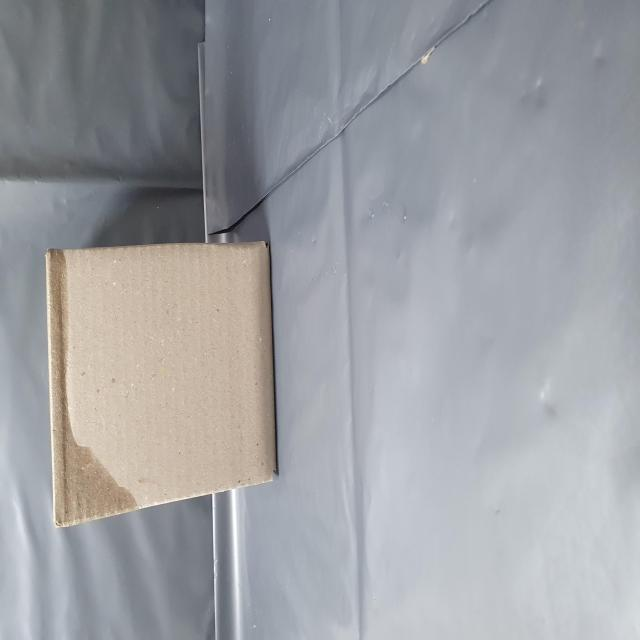wet: (64, 80, 219, 246)
